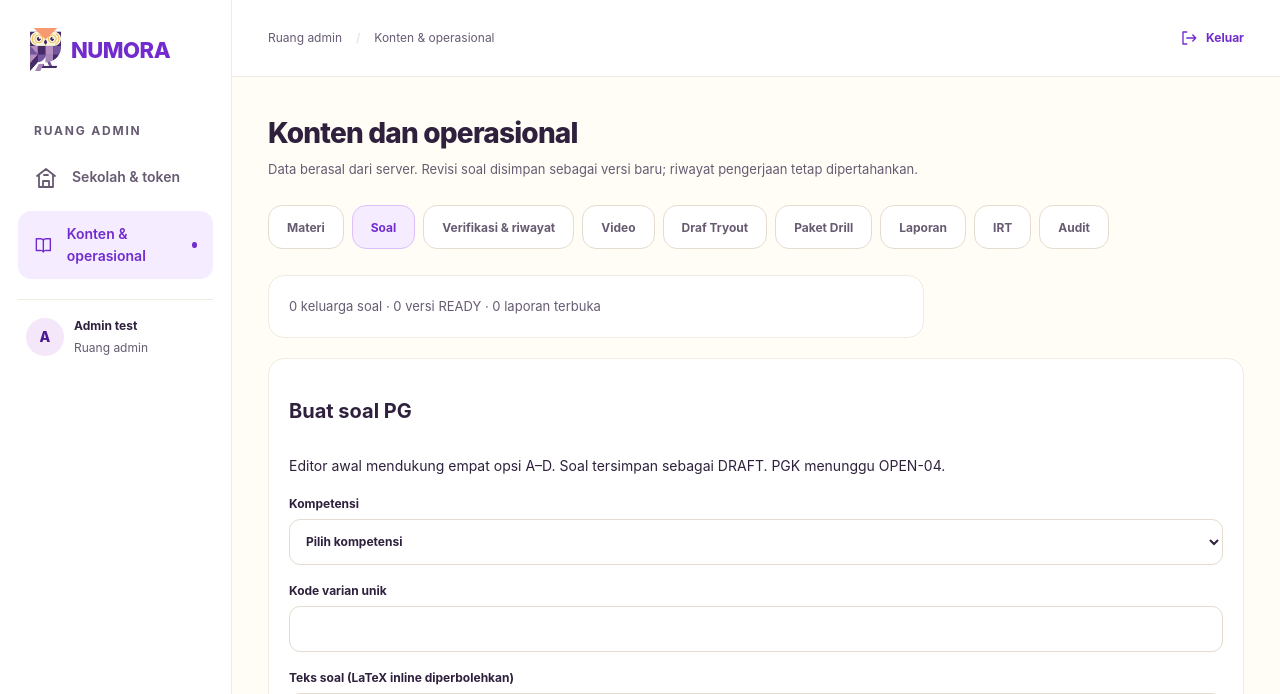
Test: Admin content UI › shows verification metadata and read-only audit history
Click the button "Verifikasi & riwayat".
click(499, 227)  # box [423,205,574,249]
(page scrolled)
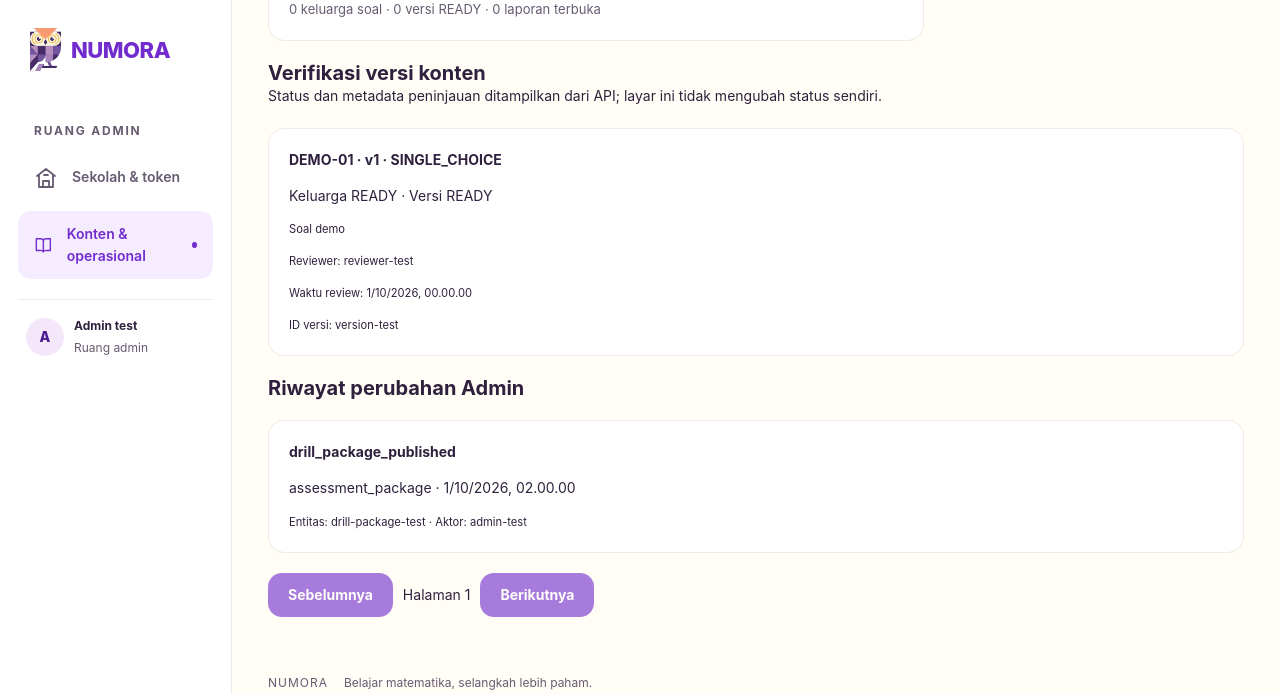
Expected: the text "Reviewer: reviewer-test" is shown, [289,254,413,268]
Expected: the text "drill_package_published" is shown, [289,443,456,460]
